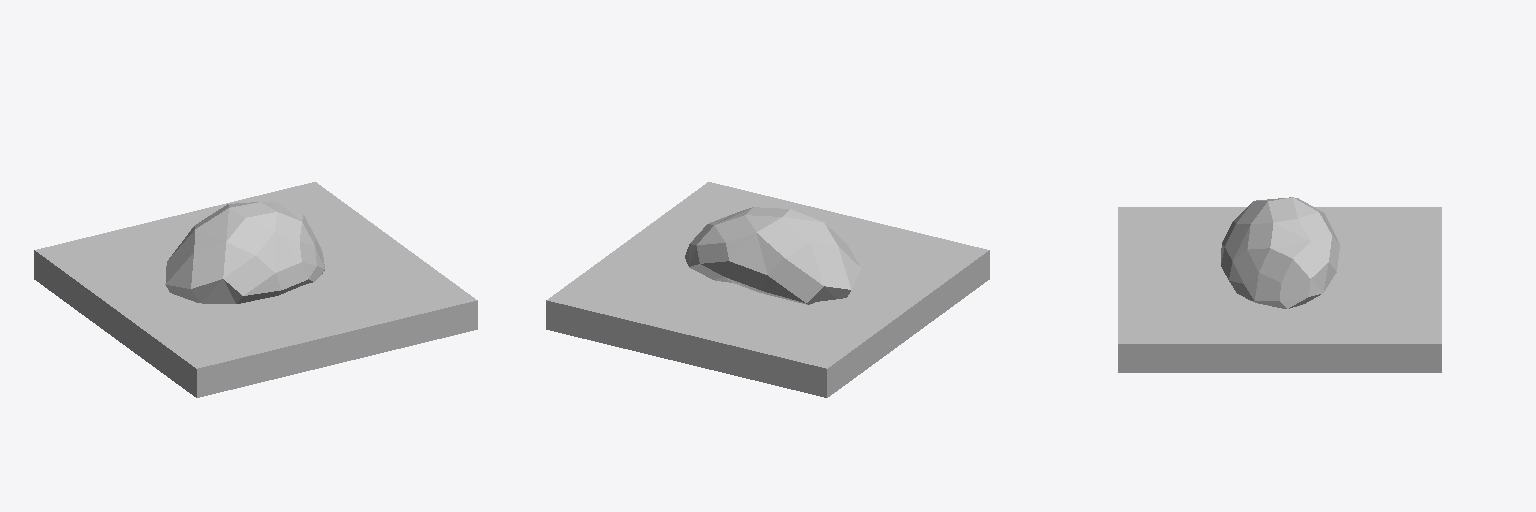
The model's file is Boulder.obj.
3 renders of one model, left to right at view 1: azimuth 30°, elevation 25°; view 2: azimuth 150°, elevation 25°; view 3: azimuth 270°, elevation 25°, orthographic.
Parts seen in each view (by area): view 1: cube1; view 2: cube1; view 3: cube1.
Boxes of the visible parts, x1,y1,x2,y2 form: cube1: [34, 182, 477, 397]; cube1: [546, 182, 989, 397]; cube1: [1118, 197, 1441, 372].
Size of the model in its own units: 1 by 0.331 by 1.